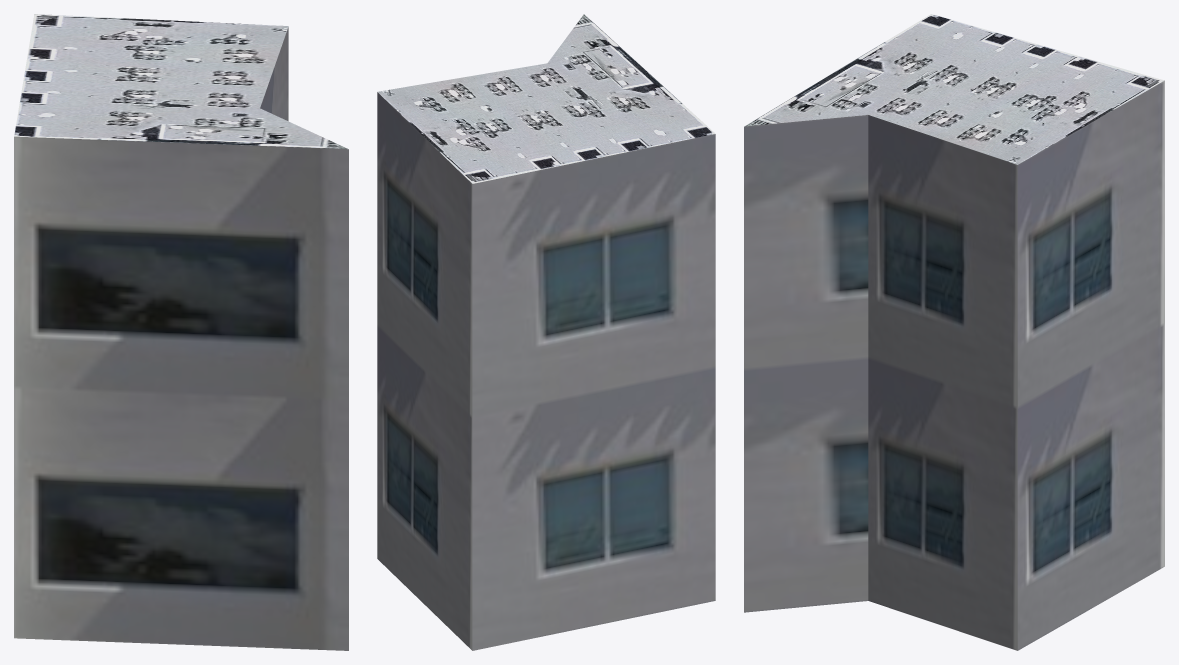
File: ResTex__4504.fbx
3 views of the same model, side by side, from view 1: azimuth 30°, elevation 25°; view 2: azimuth 150°, elevation 25°; view 3: azimuth 270°, elevation 25° (orthographic). The views are drawn at different scales.
Parts seen in each view (by area): view 1: CityEngineMaterial_10_m, CityEngineMaterial_4_m; view 2: CityEngineMaterial_10_m, CityEngineMaterial_4_m; view 3: CityEngineMaterial_10_m, CityEngineMaterial_4_m.
Part boxes in pixels (x1,y1,x2,y2): CityEngineMaterial_10_m: (14, 27, 348, 650); CityEngineMaterial_4_m: (14, 14, 348, 149); CityEngineMaterial_10_m: (377, 92, 715, 650); CityEngineMaterial_4_m: (377, 14, 715, 183); CityEngineMaterial_10_m: (744, 80, 1164, 650); CityEngineMaterial_4_m: (744, 14, 1164, 164).
Bounding box in the file's own units: 3.99 × 6 × 4.71.
Materials: 2 (2 with a texture image).
